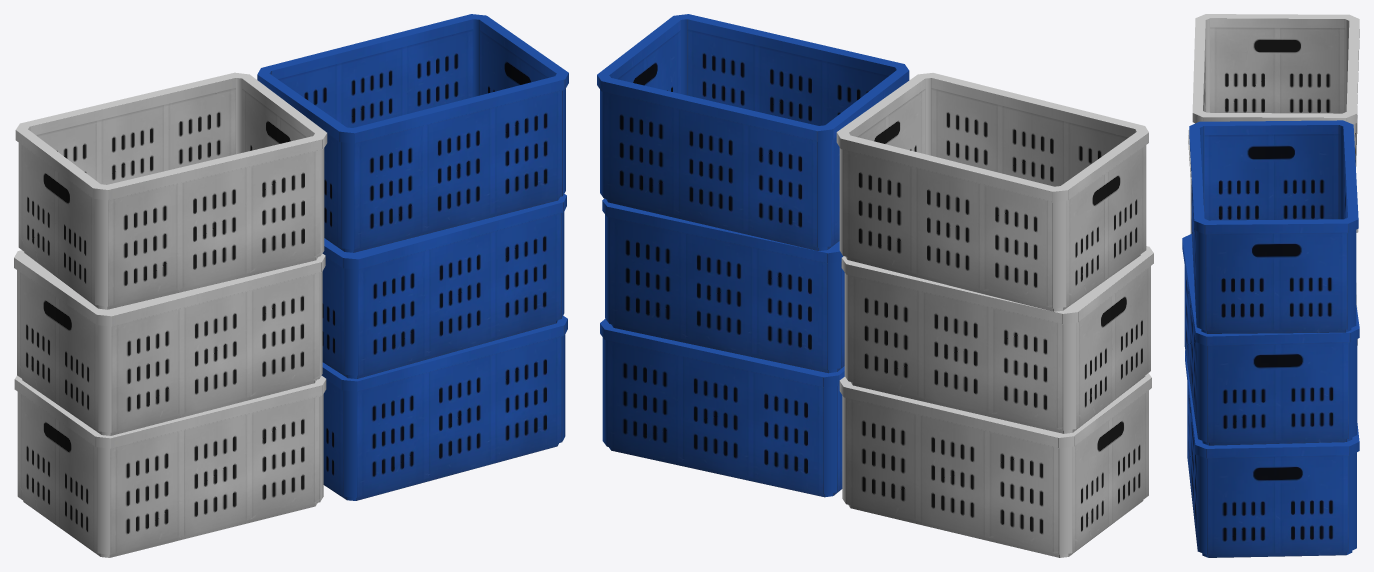
Rendered from crates.glb.
3 views of the same model, side by side, from view 1: azimuth 30°, elevation 25°; view 2: azimuth 150°, elevation 25°; view 3: azimuth 270°, elevation 25° (orthographic). The views are drawn at different scales.
Visible parts, largest first — view 1: crates; view 2: crates; view 3: crates.
Boxes of the visible parts, x1,y1,x2,y2 form: crates: [14, 14, 568, 557]; crates: [597, 14, 1153, 557]; crates: [1182, 14, 1359, 557].
Bounding box in the file's own units: 1.26 × 0.93 × 0.4451.
Materials: 1 (1 with a texture image).
